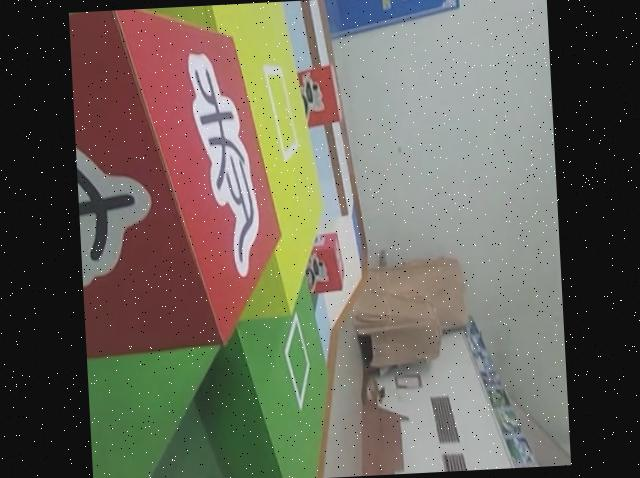R1: (294, 61, 346, 130), (304, 230, 351, 297)
R2 Fake: (69, 2, 294, 364)
